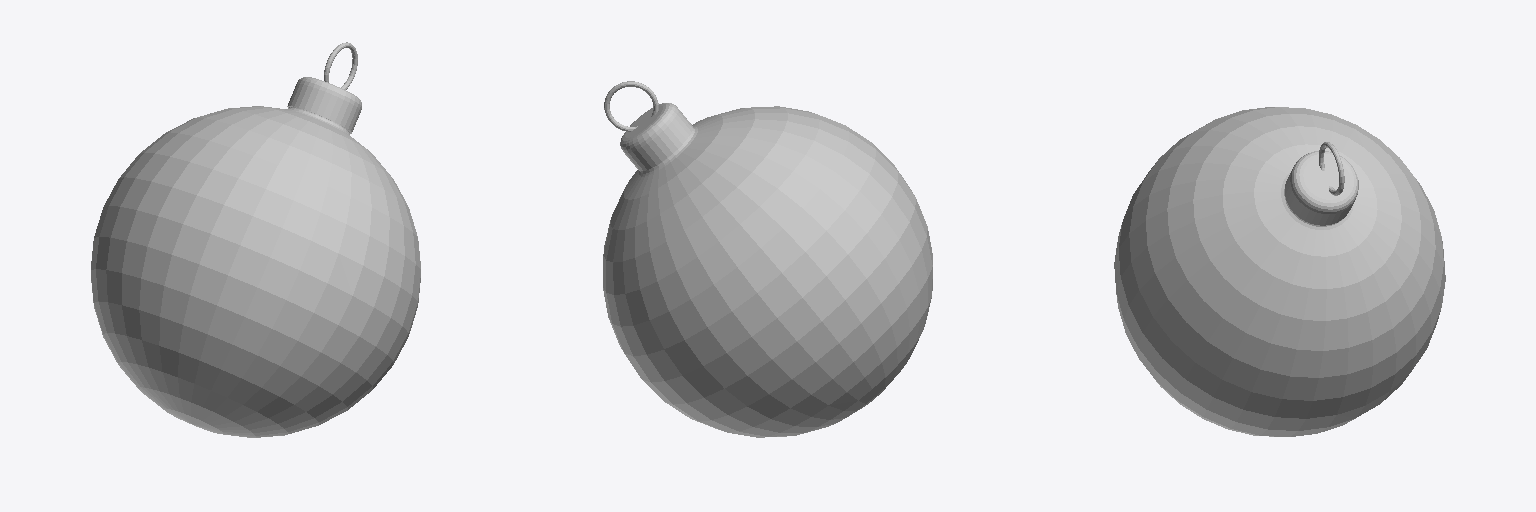
File: ball.obj
3 renders of one model, left to right at view 1: azimuth 30°, elevation 25°; view 2: azimuth 150°, elevation 25°; view 3: azimuth 270°, elevation 25°, orthographic.
Visible parts, largest first — view 1: ball016; view 2: ball016; view 3: ball016.
Boxes of the visible parts, <box> form: ball016: <box>91,42,420,437</box>; ball016: <box>603,81,932,437</box>; ball016: <box>1114,107,1445,436</box>.
Size of the model in its own units: 0.0537 by 0.0593 by 0.0537.